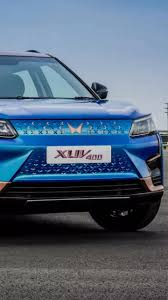XUV 400: (1, 47, 168, 238)
